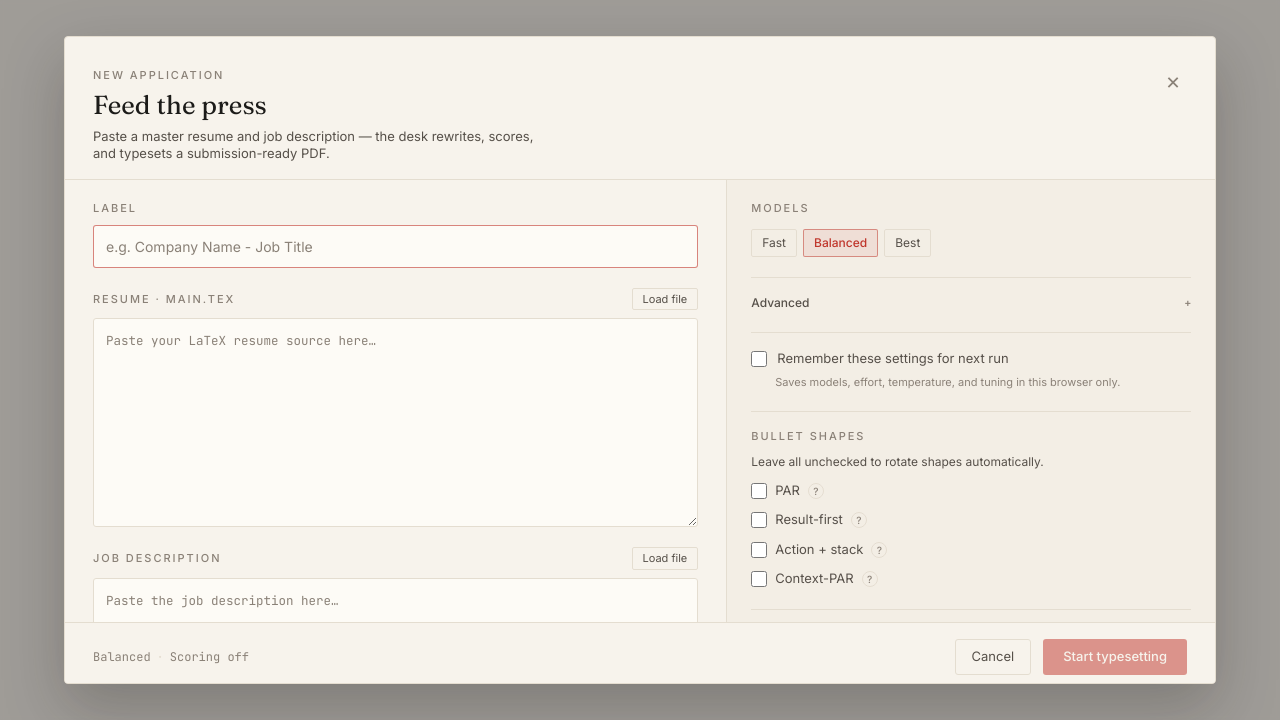
Test: NewJobModal › uses a playground layout with presets visible and advanced collapsed
Expected: the element named "model presets" is shown, x1=751 y1=229 x2=931 y2=257
Expected: the element with test id "playground-inputs" is shown, x1=65 y1=180 x2=726 y2=622
Click the button "Advanced +".
click(780, 302)  # box x1=751 y1=294 x2=1191 y2=312
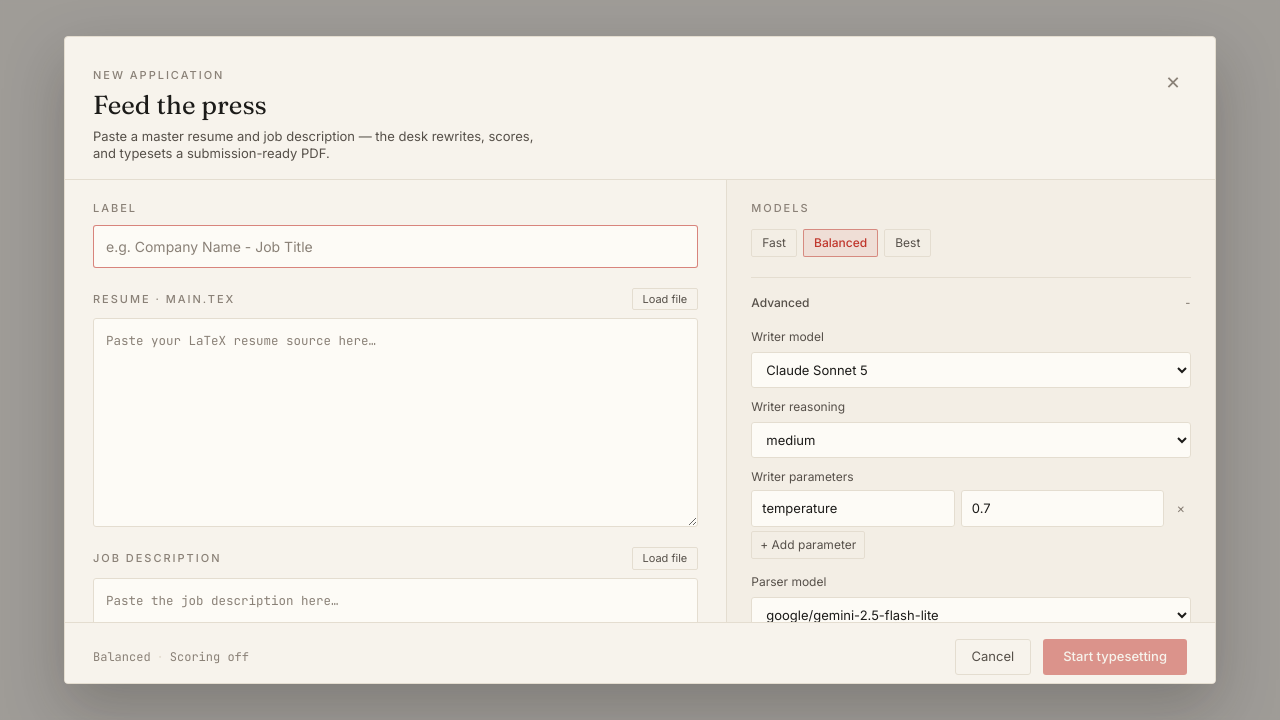
Now the dropdown labelled "Writer model" is shown, box x1=751 y1=352 x2=1191 y2=388
